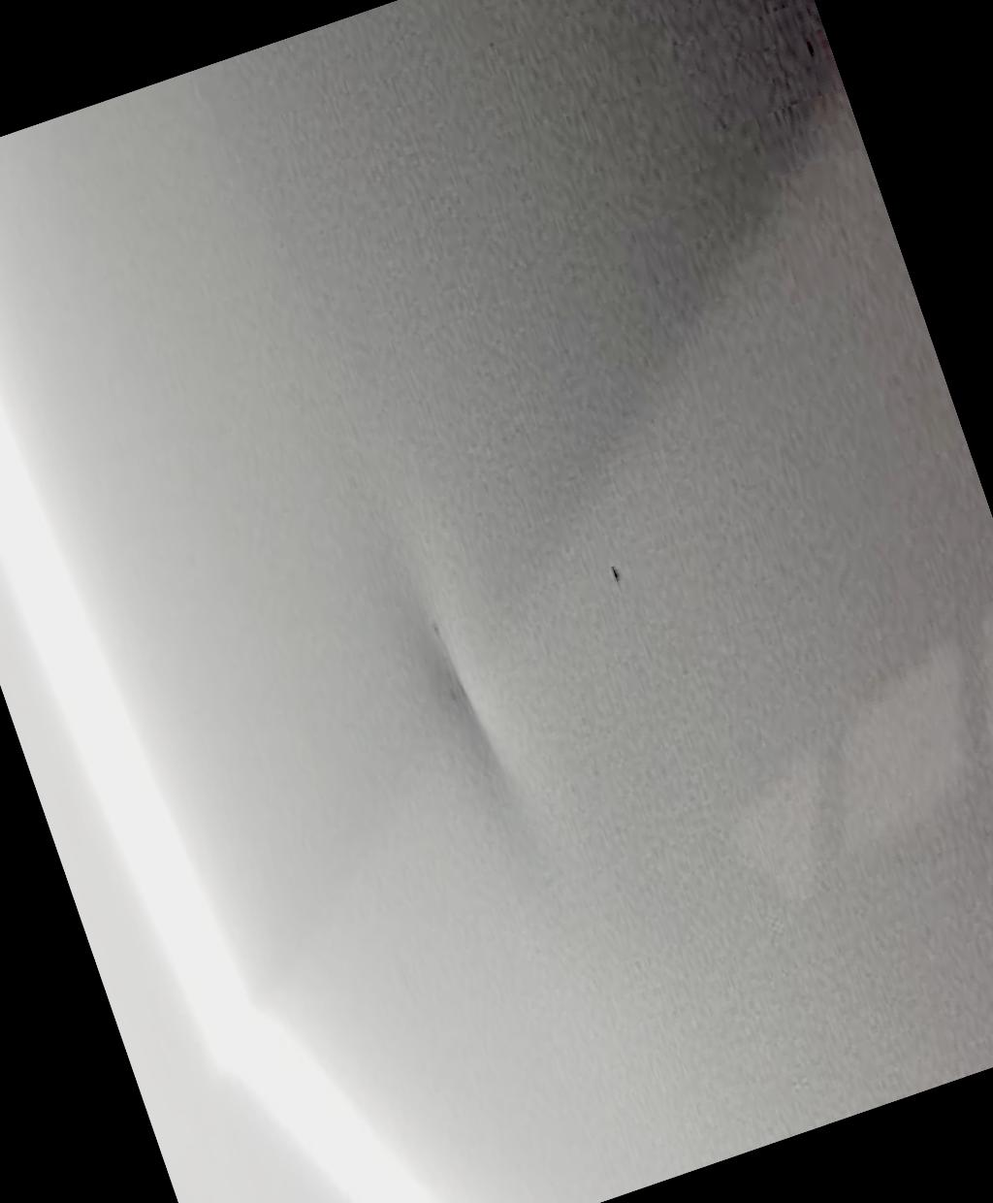dent: (406, 585, 560, 882)
